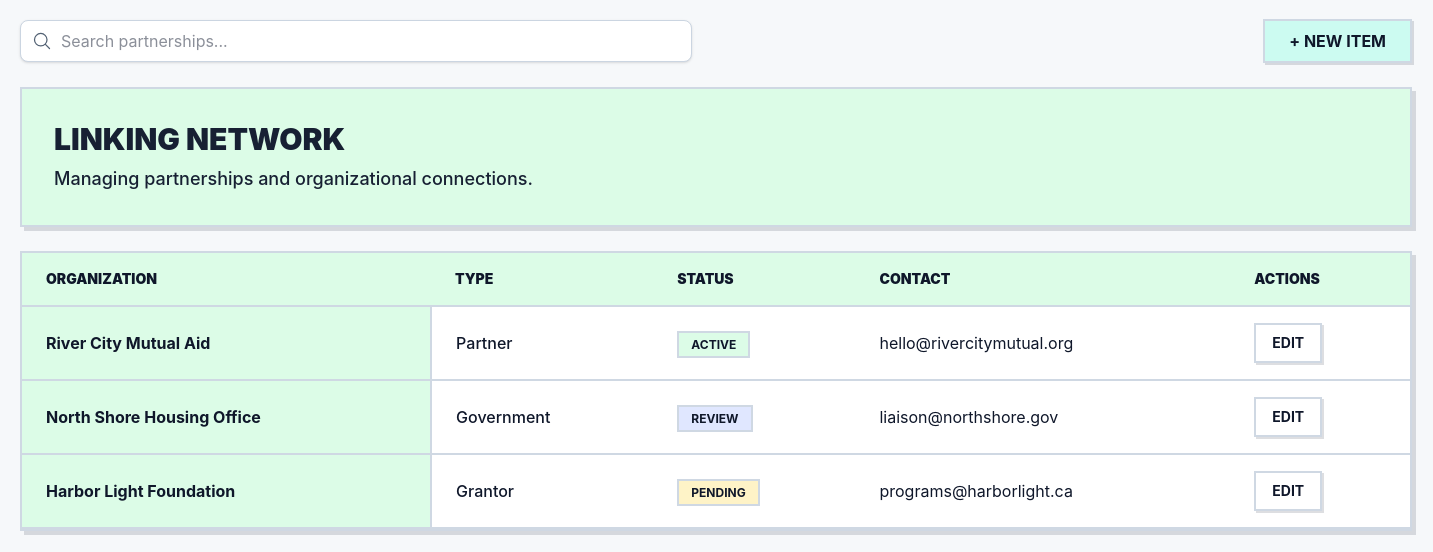
LinkingModulePage › filters visible organizations by name
The width and height of the screenshot is (1433, 552).
Expected: the text "River City Mutual Aid" is shown, [22,306,431,380]
Type "north shore" into the search field labelled "Search partnerships...".
click(356, 41); type("north shore")  # box [20,20,692,62]
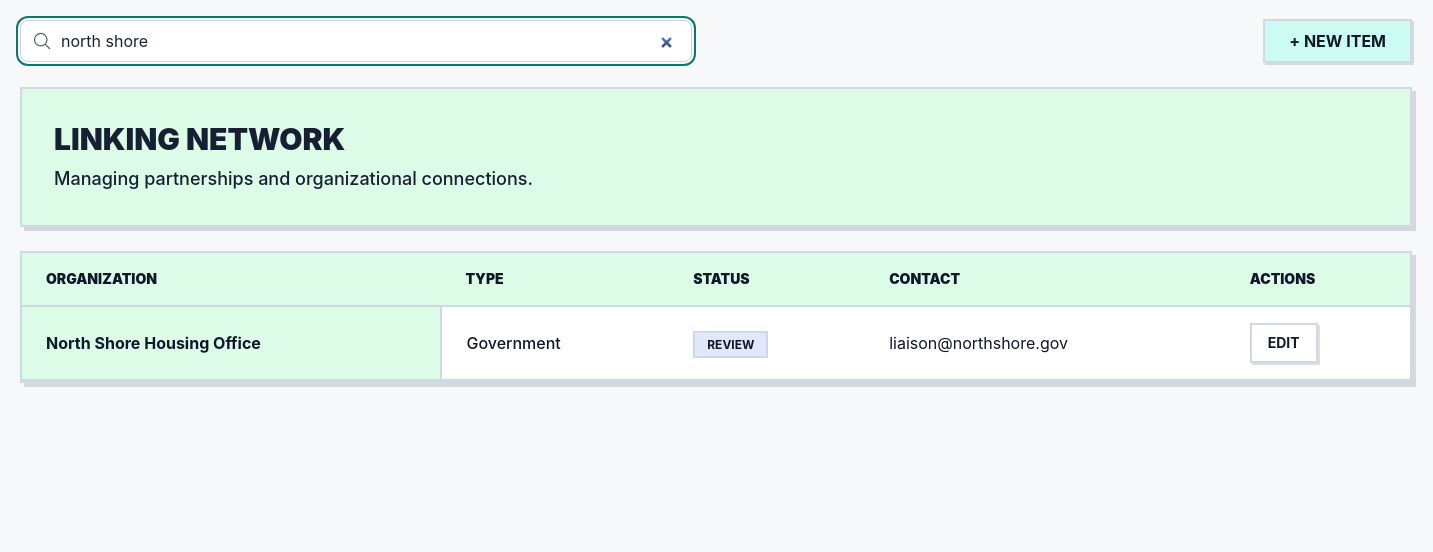
Expected: the text "North Shore Housing Office" is shown, [22,306,441,380]
Now the text "River City Mutual Aid" is gone
Now the text "Harbor Light Foundation" is gone
